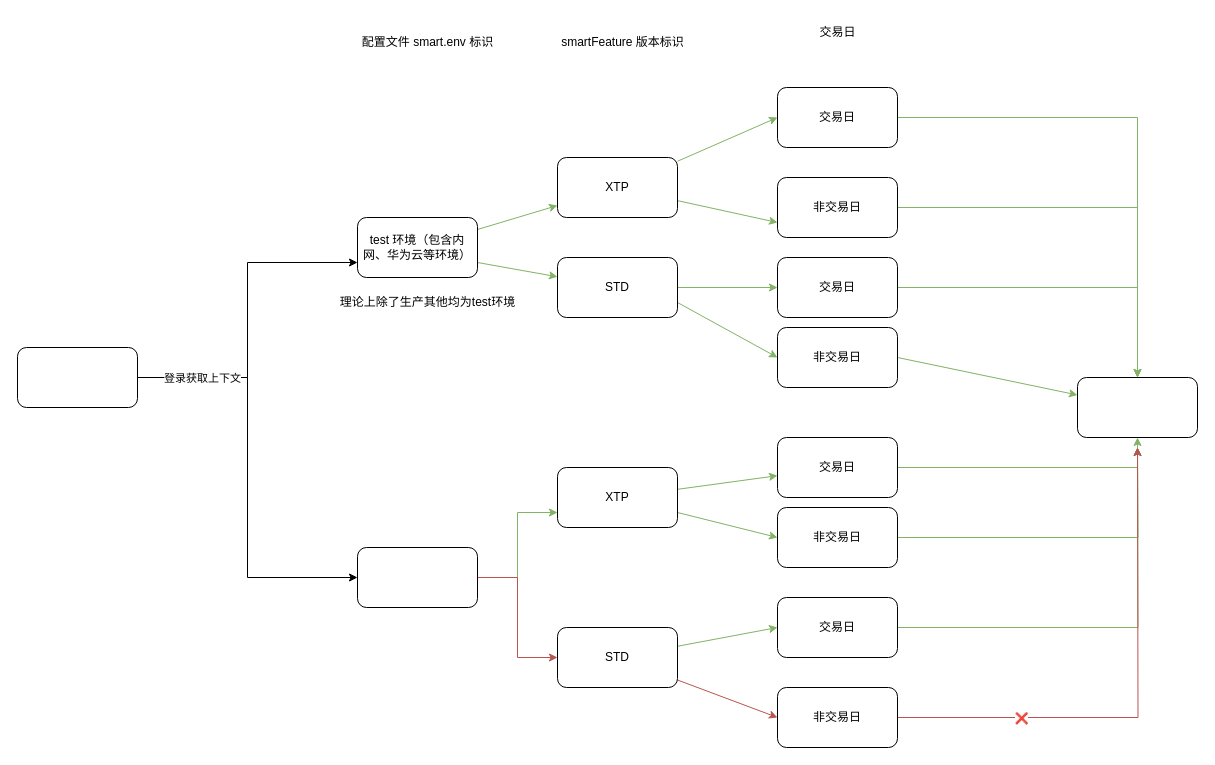
The diagram is 1215 pixels wide and 765 high, and some of its shapes have lost their labels. Each missing label, with the centre of its shape:
prod环境: point (417, 577)
客户端: point (77, 377)
获取上下文: point (1137, 407)
